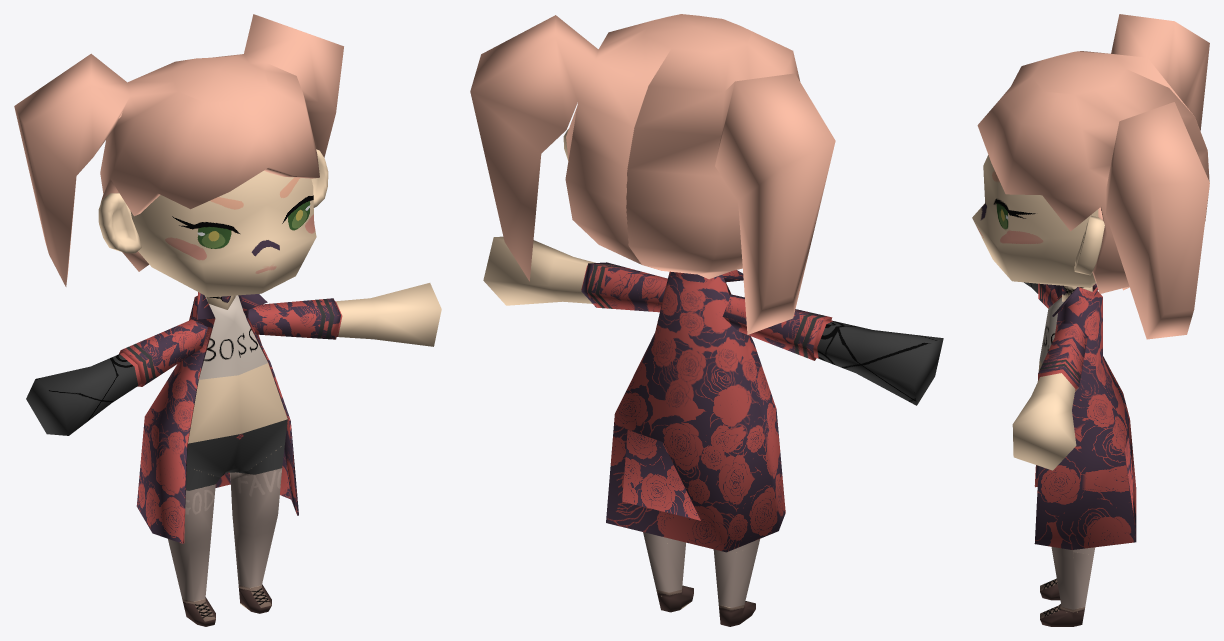
The model's file is Female1.fbx.
3 renders of one model, left to right at view 1: azimuth 30°, elevation 25°; view 2: azimuth 150°, elevation 25°; view 3: azimuth 270°, elevation 25°, orthographic. The views are drawn at different scales.
Parts seen in each view (by area): view 1: Hair, Body, Head, Arms, Coat, Ears; view 2: Hair, Coat, Arms, Body; view 3: Hair, Coat, Head, Arms, Body, Ears.
Boxes of the visible parts, <box> form: Hair: <box>14,14,343,286</box>; Body: <box>168,295,287,626</box>; Head: <box>130,171,316,297</box>; Arms: <box>26,283,441,435</box>; Coat: <box>136,292,298,543</box>; Ears: <box>98,149,328,253</box>; Hair: <box>470,14,835,334</box>; Coat: <box>606,270,785,552</box>; Arms: <box>483,236,943,405</box>; Body: <box>643,532,759,626</box>; Hair: <box>977,14,1209,339</box>; Coat: <box>1034,283,1136,549</box>; Head: <box>972,155,1098,287</box>; Arms: <box>1012,282,1087,470</box>; Body: <box>1037,297,1095,626</box>; Ears: <box>1074,215,1104,275</box>.
Bounding box in the file's own units: 252 × 328 × 129.
Materials: 7 (7 with a texture image).
